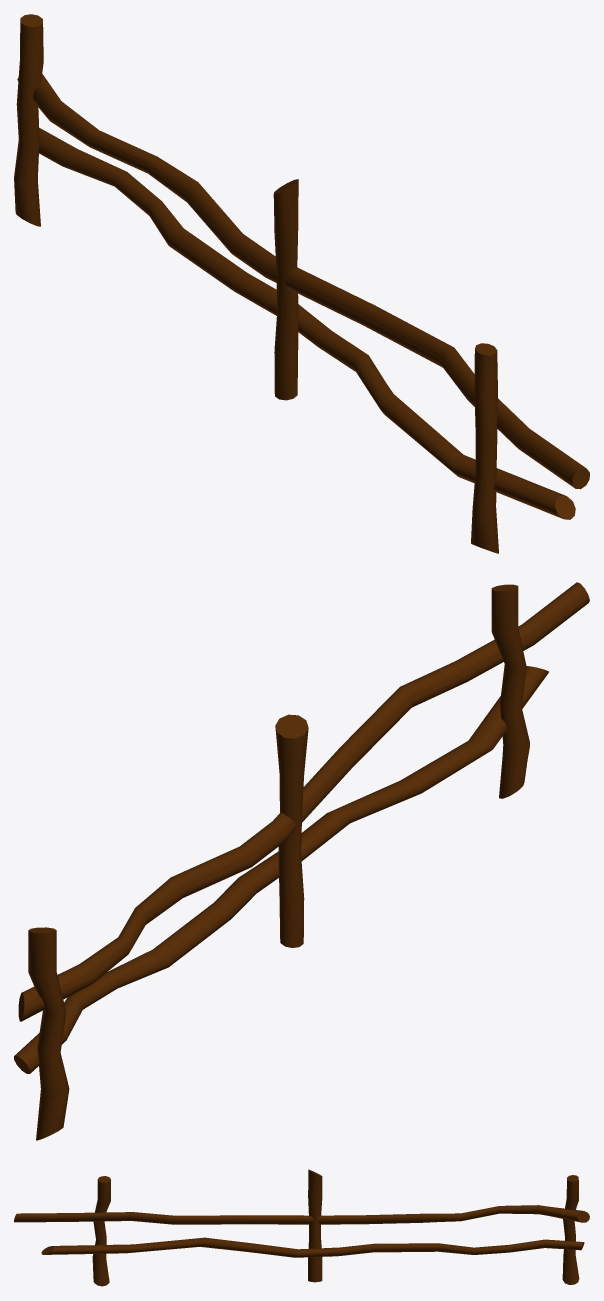
File: fence2.glb
3 views of the same model, one above another, from view 1: azimuth 30°, elevation 25°; view 2: azimuth 150°, elevation 25°; view 3: azimuth 270°, elevation 25° (orthographic). The views are drawn at different scales.
Parts seen in each view (by area): view 1: Cylinder277_21 - Default_0; view 2: Cylinder277_21 - Default_0; view 3: Cylinder277_21 - Default_0.
Boxes of the visible parts, box(x1,y1,x2,y2) form: Cylinder277_21 - Default_0: box(14, 14, 589, 553); Cylinder277_21 - Default_0: box(14, 582, 589, 1140); Cylinder277_21 - Default_0: box(14, 1169, 589, 1286).
Size of the model in its own units: 1.25 by 4.34 by 19.53.
